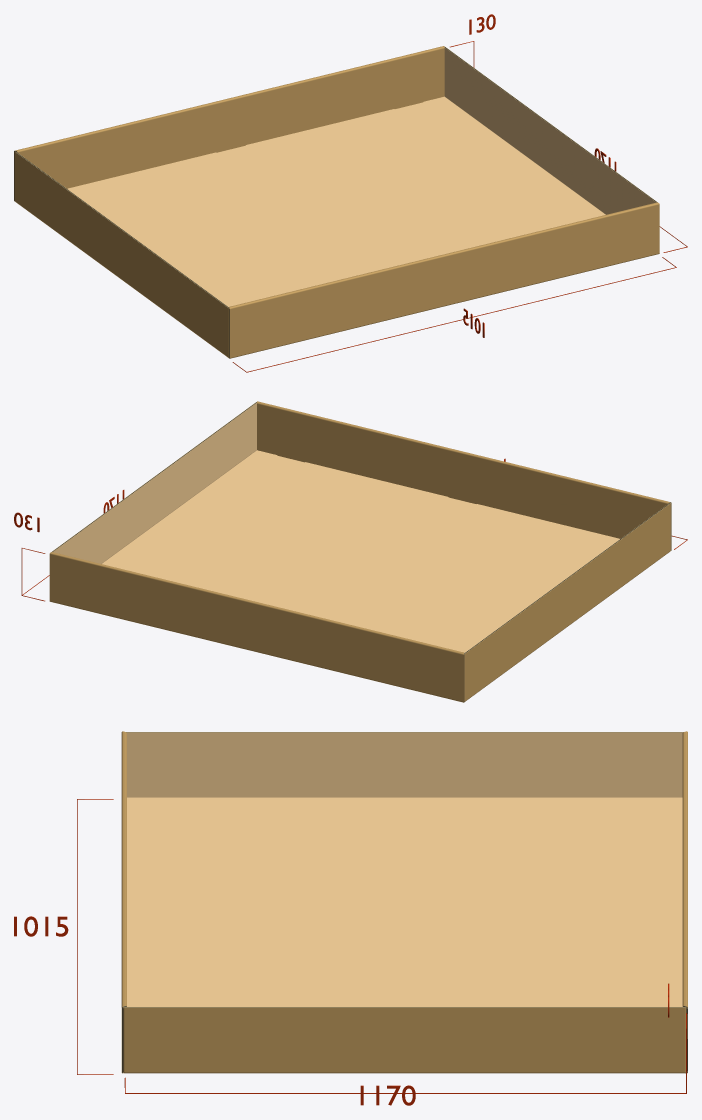
File: BandejaAcotada.gltf
3 views of the same model, one above another, from view 1: azimuth 30°, elevation 25°; view 2: azimuth 150°, elevation 25°; view 3: azimuth 270°, elevation 25° (orthographic). The views are drawn at different scales.
Visible parts, largest first — view 1: _1X0304_ARD-node, Plano.002; view 2: _1X0304_ARD-node; view 3: _1X0304_ARD-node, Plano.001.
Boxes of the visible parts, bbox=[...] form: _1X0304_ARD-node: bbox=[14, 46, 659, 358]; Plano.002: bbox=[232, 257, 676, 372]; _1X0304_ARD-node: bbox=[49, 401, 671, 702]; _1X0304_ARD-node: bbox=[121, 731, 687, 1073]; Plano.001: bbox=[124, 1077, 686, 1093].
Bounding box in the file's own units: 1.3 × 0.2051 × 1.21.
Materials: 4 (1 with a texture image).
